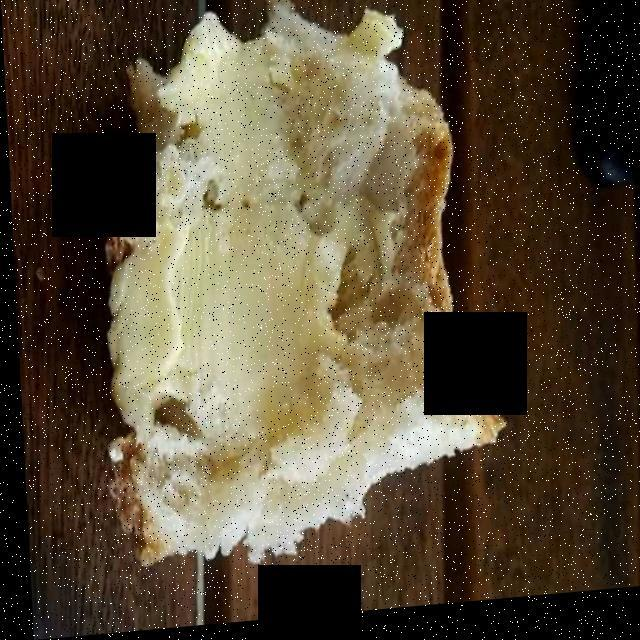bread: (107, 21, 476, 559)
butter: (89, 45, 363, 504)
